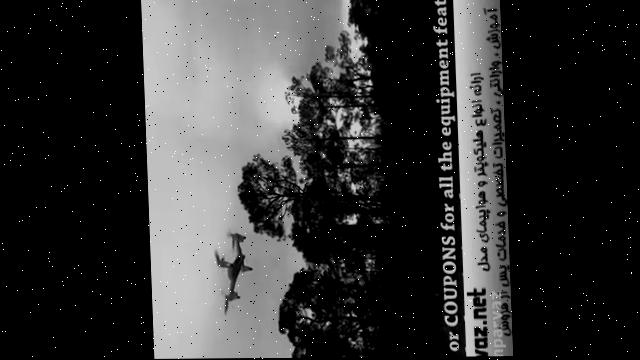drone: (206, 229, 254, 320)
